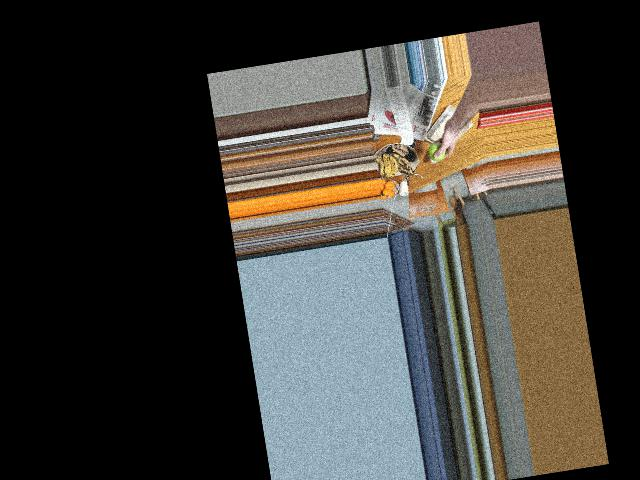apple: (426, 141, 448, 162)
